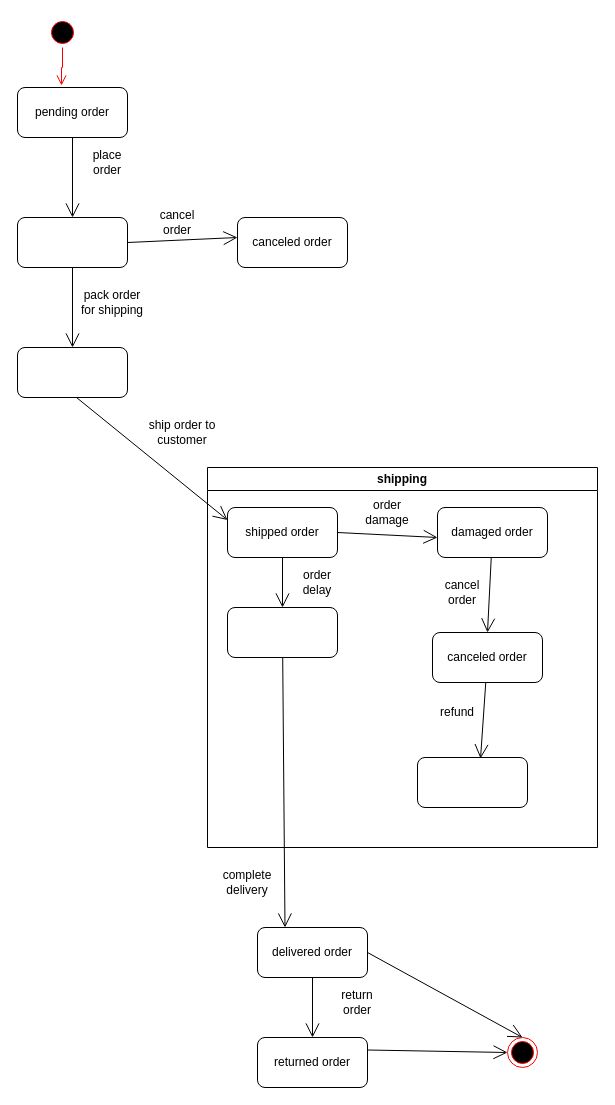
Image size: 615x1105. Some labels were removed from this diagram. Here are the shapes that lost their labels. From the top down, the centre of each, then its label:
At [72,242]: "confirmed order".
At [72,372]: "packed order".
At [282,632]: "delayed order".
At [472,782]: "completed order".
